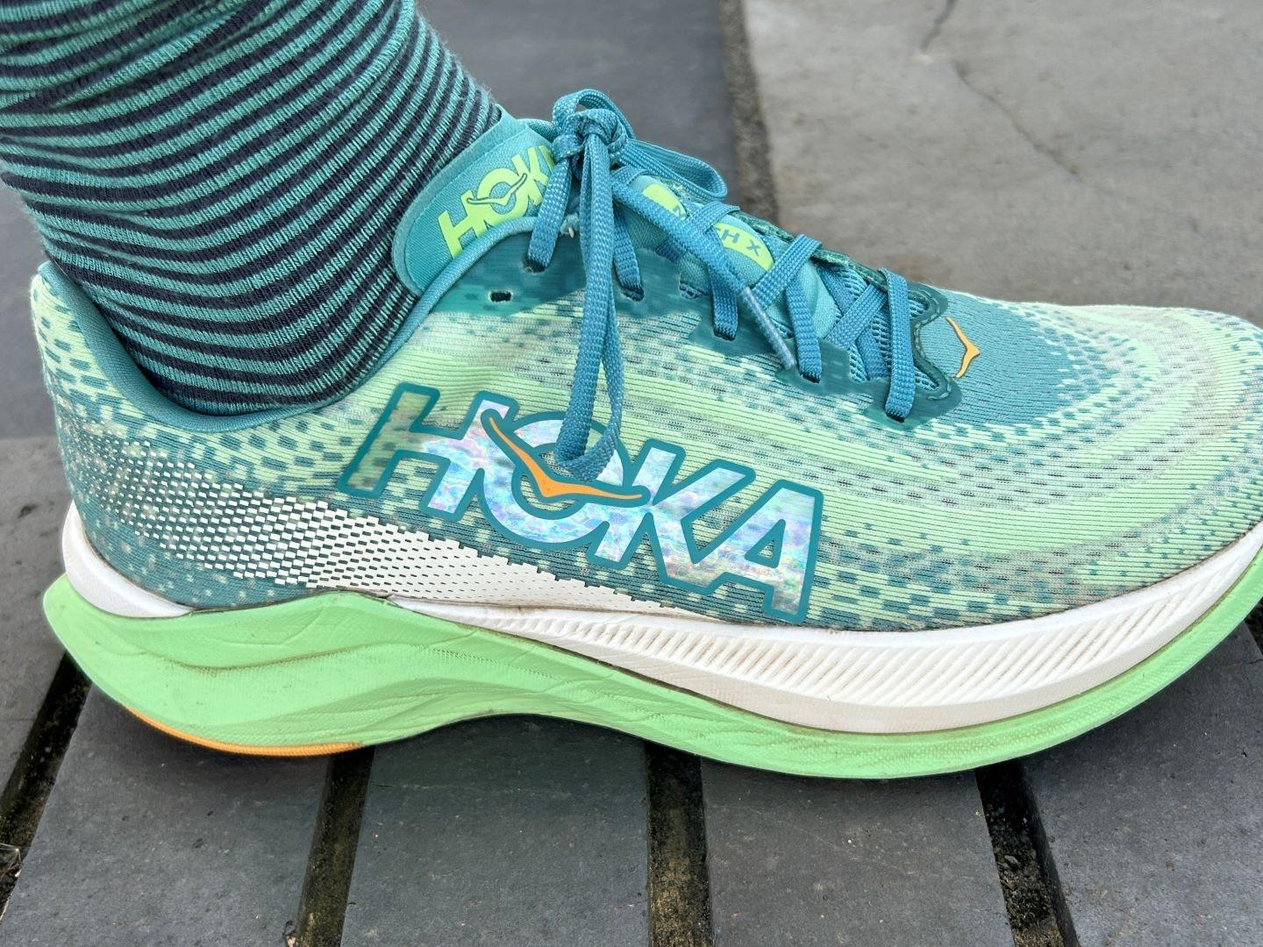hoka logo: (327, 341, 846, 632), (413, 139, 597, 284), (945, 317, 979, 381)
